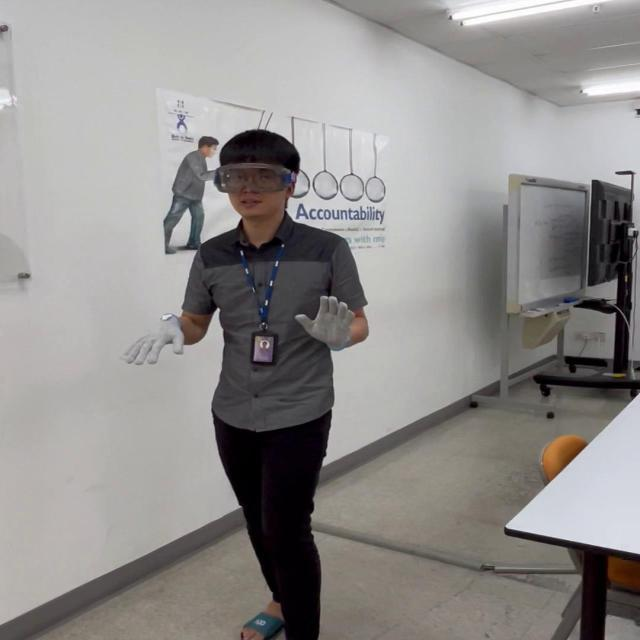gloved_hand: (292, 294, 354, 356), (123, 311, 188, 366)
